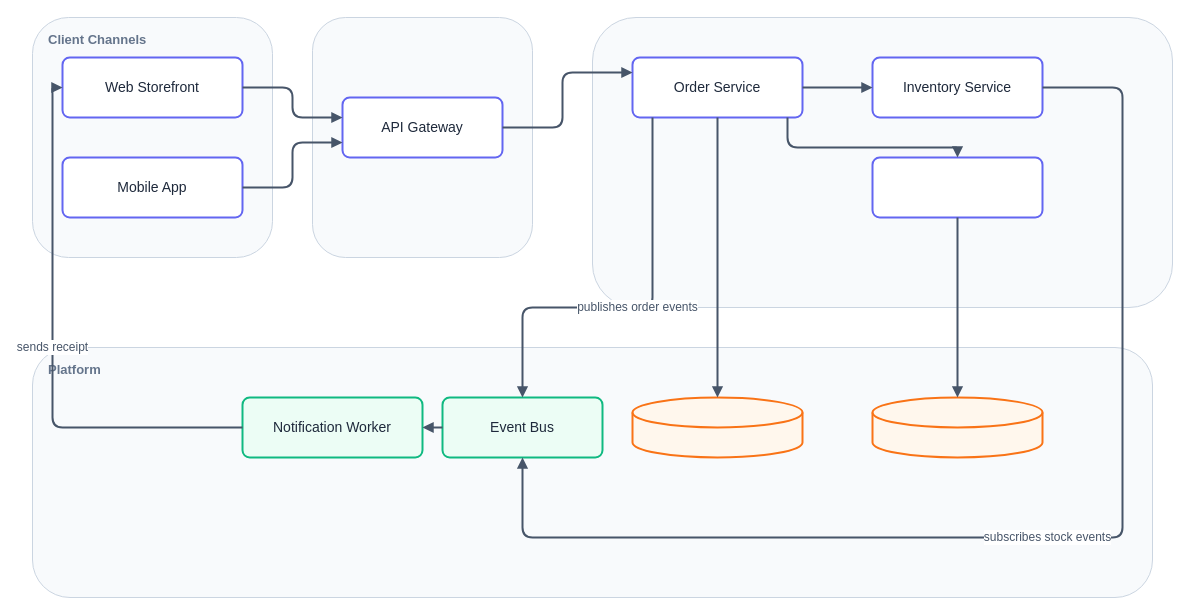
This 1190x615 diagram has some shape labels left out. Here are the shapes that lost their labels. From the top down, the box of each, then its label:
(312, 16, 532, 258): Edge
(592, 16, 1172, 308): Core Services
(871, 156, 1043, 218): Payment Service
(631, 396, 803, 458): Orders DB
(871, 396, 1043, 458): Payments Ledger
